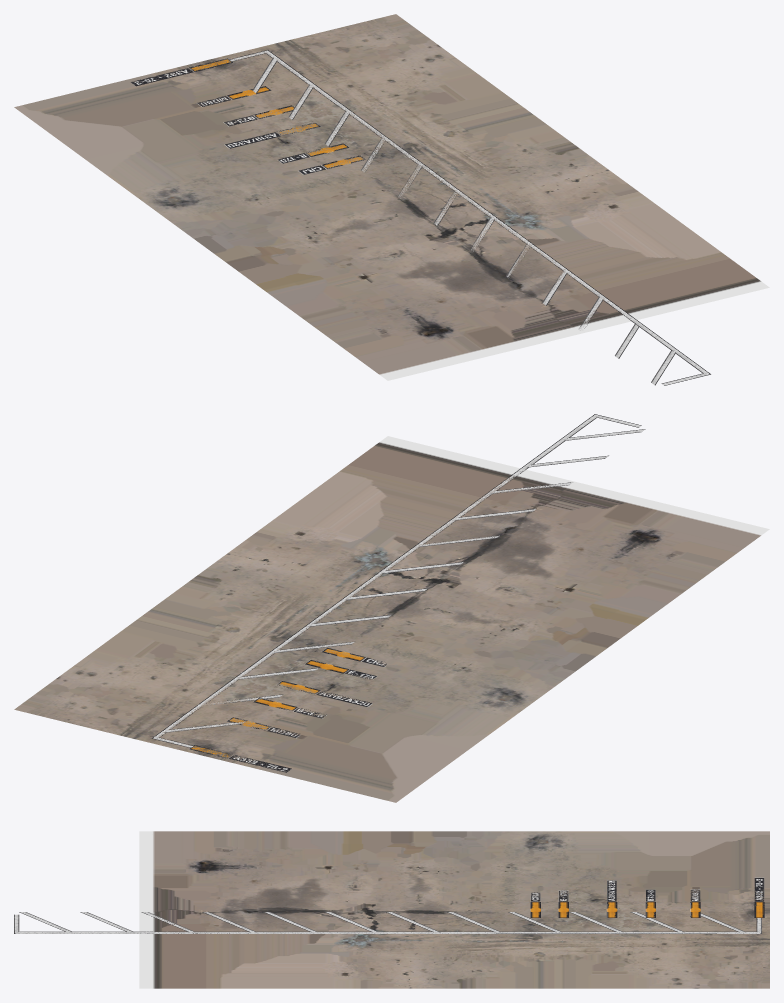
The model's file is Ramp_1_Stripes_nL.gltf.
3 renders of one model, top to bottom at view 1: azimuth 30°, elevation 25°; view 2: azimuth 150°, elevation 25°; view 3: azimuth 270°, elevation 25°, orthographic. The views are drawn at different scales.
Parts seen in each view (by area): view 1: Ramp_1_Stripes_nL; view 2: Ramp_1_Stripes_nL; view 3: Ramp_1_Stripes_nL.
Part boxes in pixels (x1,y1,x2,y2): Ramp_1_Stripes_nL: (14, 14, 769, 385); Ramp_1_Stripes_nL: (14, 414, 769, 802); Ramp_1_Stripes_nL: (14, 831, 769, 988).
Size of the model in its own units: 21.06 by 0 by 42.78.
